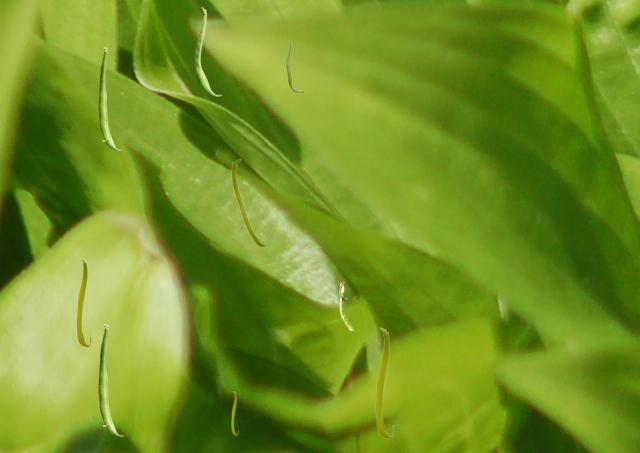french_bean: (231, 158, 265, 246), (98, 324, 123, 435), (98, 47, 121, 149), (195, 7, 221, 95), (375, 327, 393, 438), (76, 258, 90, 346), (285, 40, 304, 92), (339, 282, 353, 329), (231, 391, 237, 434)
